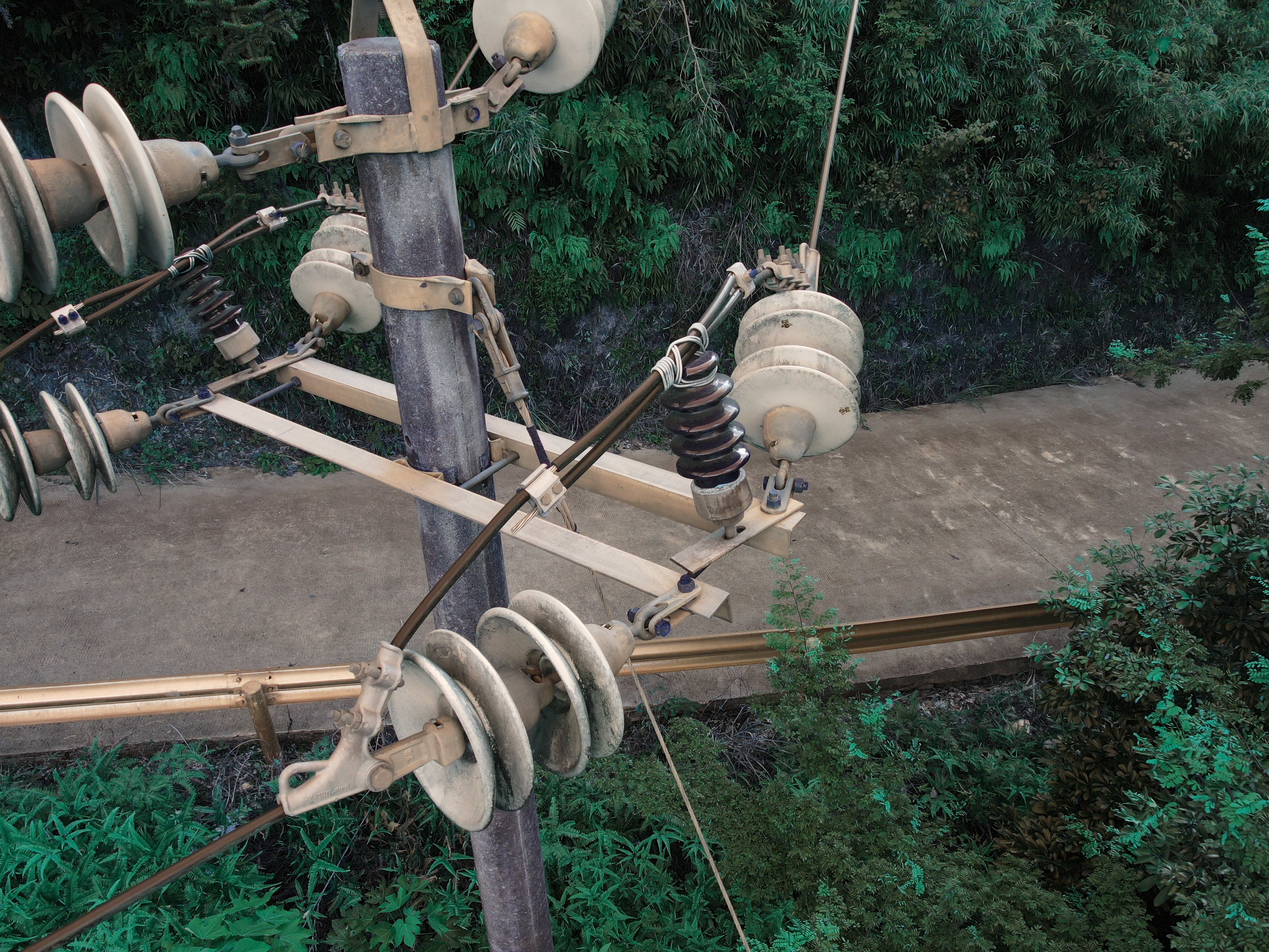severe_soiling_no_discharge_whole: (388, 583, 640, 833), (3, 75, 227, 308), (726, 289, 865, 458), (1, 380, 157, 522), (287, 207, 388, 339)
